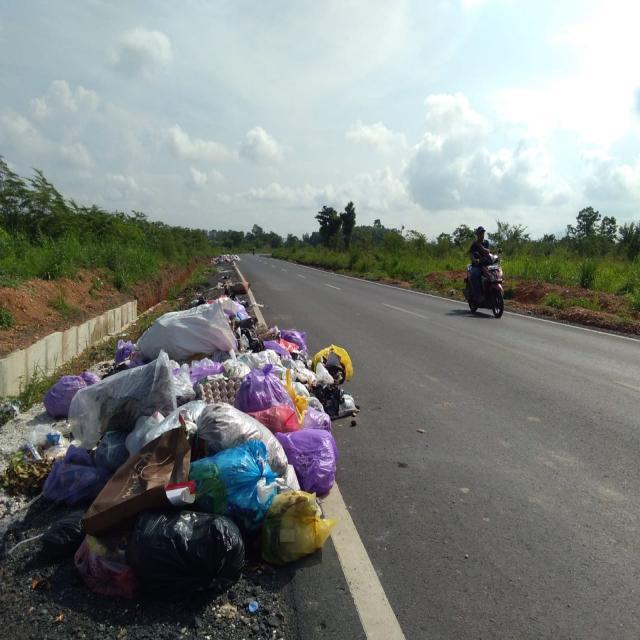garbage: (32, 282, 360, 620)
